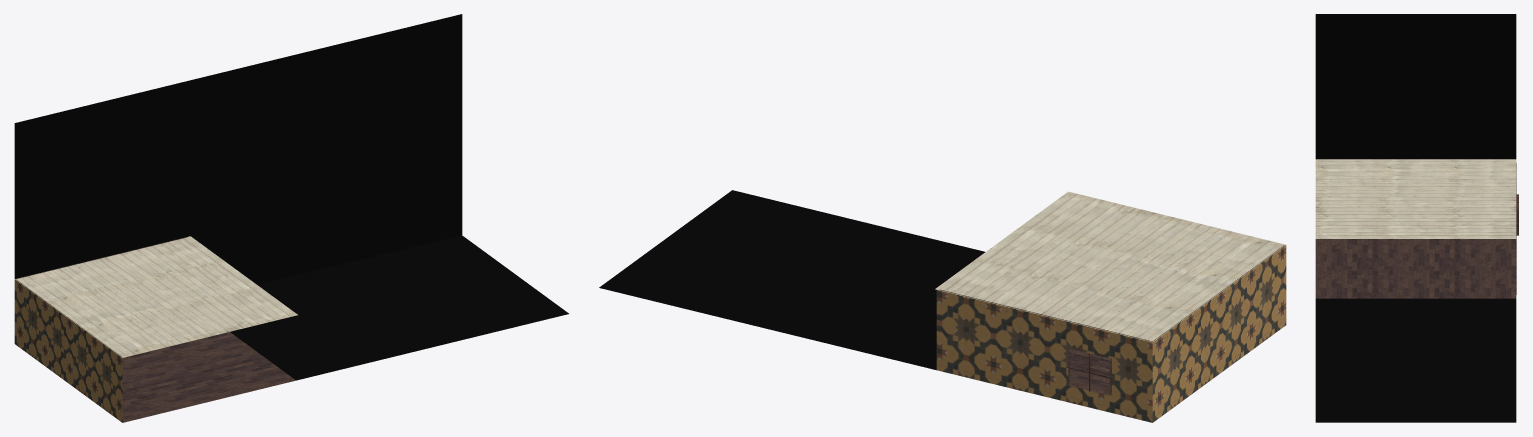
The model's file is cutscene_room.glb.
3 views of the same model, side by side, from view 1: azimuth 30°, elevation 25°; view 2: azimuth 150°, elevation 25°; view 3: azimuth 270°, elevation 25° (orthographic). The views are drawn at different scales.
Parts seen in each view (by area): view 1: cutscene_room.003, cutscene_room, cutscene_room.002, cutscene_room.001; view 2: cutscene_room.003, cutscene_room, cutscene_room.001, cutscene_room.002; view 3: cutscene_room.003, cutscene_room, cutscene_room.002.
Boxes of the visible parts, x1,y1,x2,y2 form: cutscene_room.003: (14,14,568,380); cutscene_room: (15,236,297,357); cutscene_room.002: (16,237,295,422); cutscene_room.001: (14,279,122,422); cutscene_room.003: (599,190,984,370); cutscene_room: (935,191,1285,342); cutscene_room.001: (936,245,1286,422); cutscene_room.002: (937,245,1285,417); cutscene_room.003: (1315,14,1516,422); cutscene_room: (1315,159,1516,238); cutscene_room.002: (1315,159,1518,298).
Bounding box in the file's own units: 86.51 × 40.8 × 36.64.
Materials: 4 (3 with a texture image).
